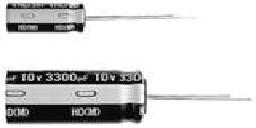Electrolytic Capacitor: (3, 60, 256, 127), (3, 1, 207, 37)
